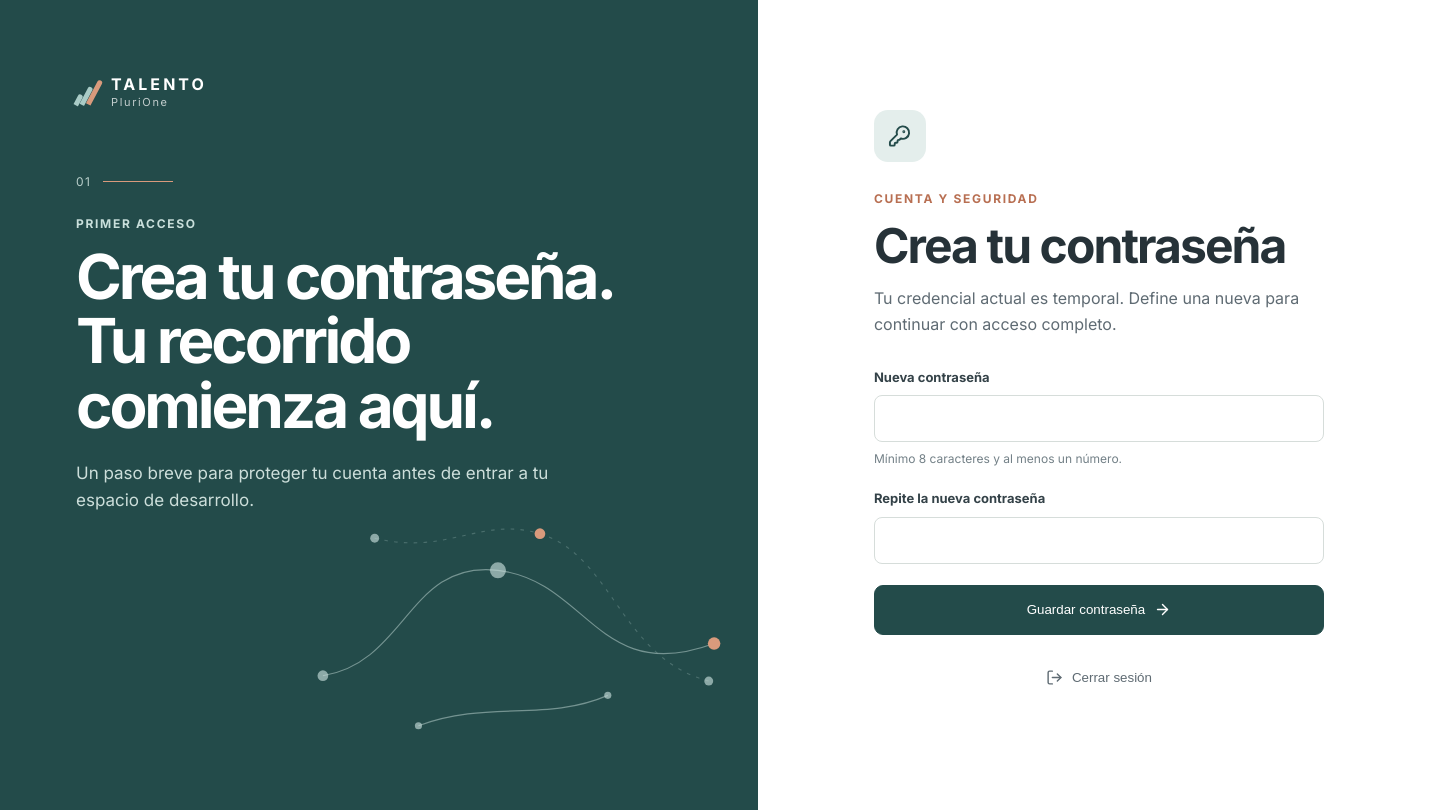
Test: CambioContrasena — formulario › no envía nada si las dos contraseñas no coinciden
The image size is (1440, 810).
In the password field labelled "Nueva contraseña": (1099, 419) [874,395,1324,442], type "nueva123"
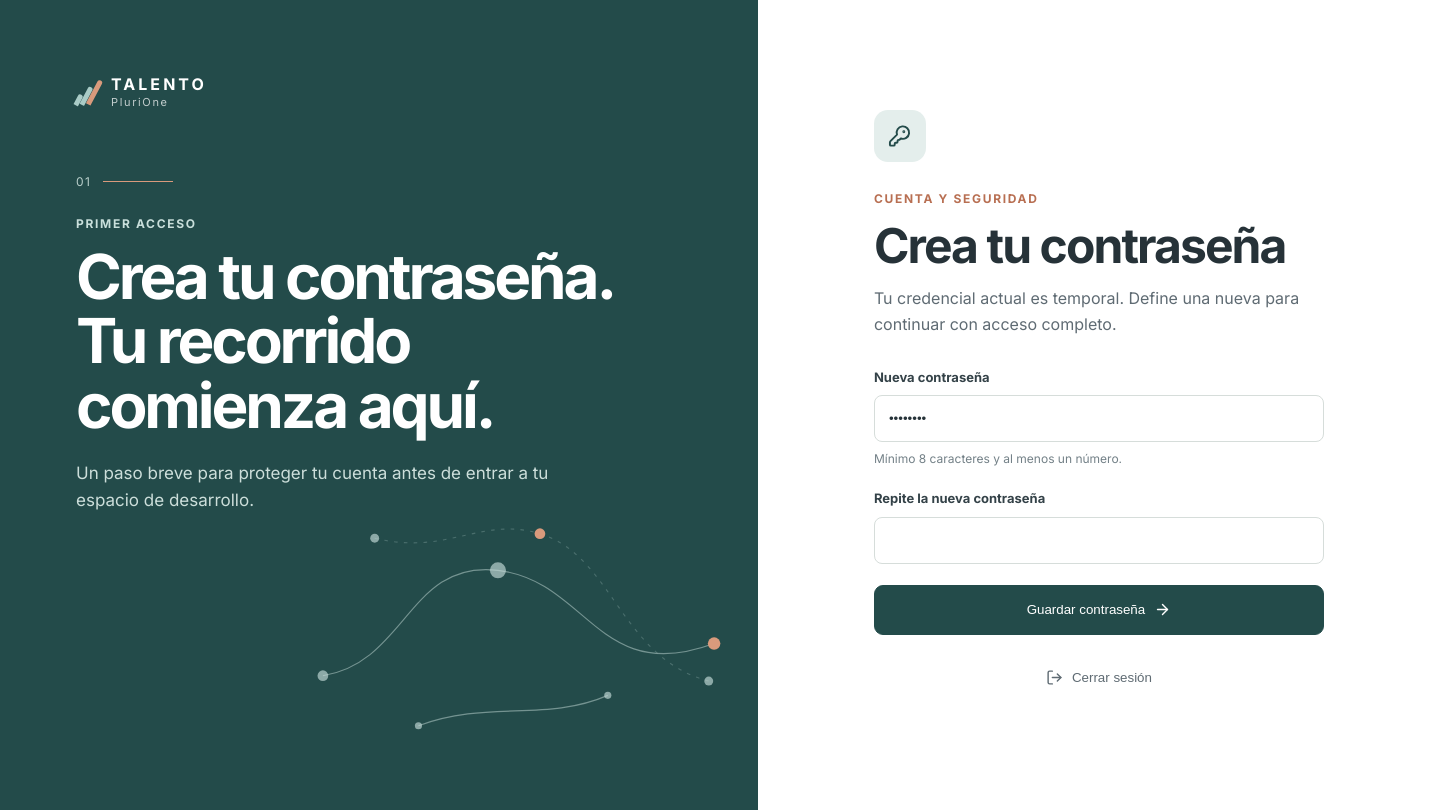
In the password field labelled "Repite la nueva contraseña": (1099, 540) [874,517,1324,564], type "otra1234"
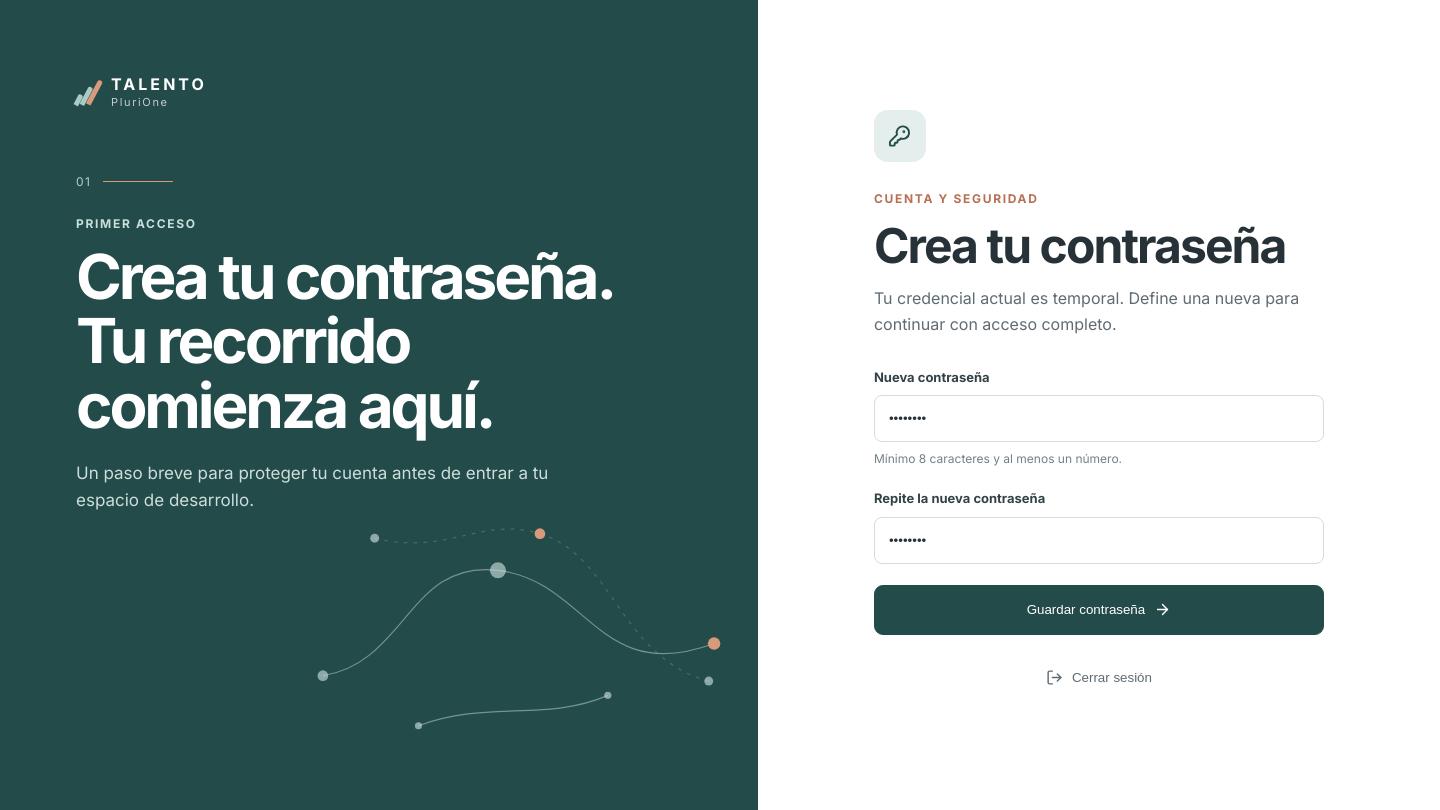
Click the button "Guardar contraseña": (1099, 610) [874,585,1324,635]
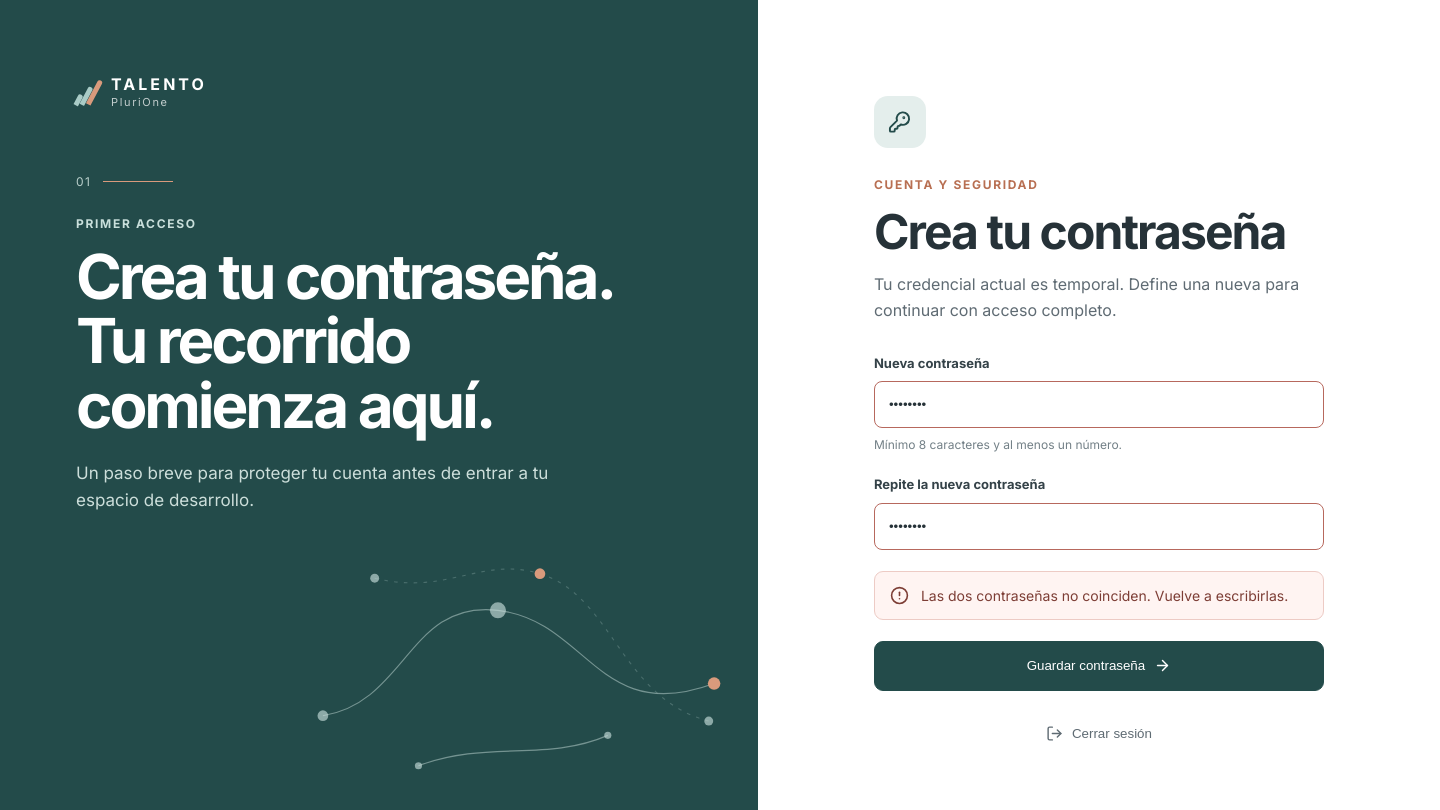
Now the message shows "no coinciden", box [921,587,1288,604]
